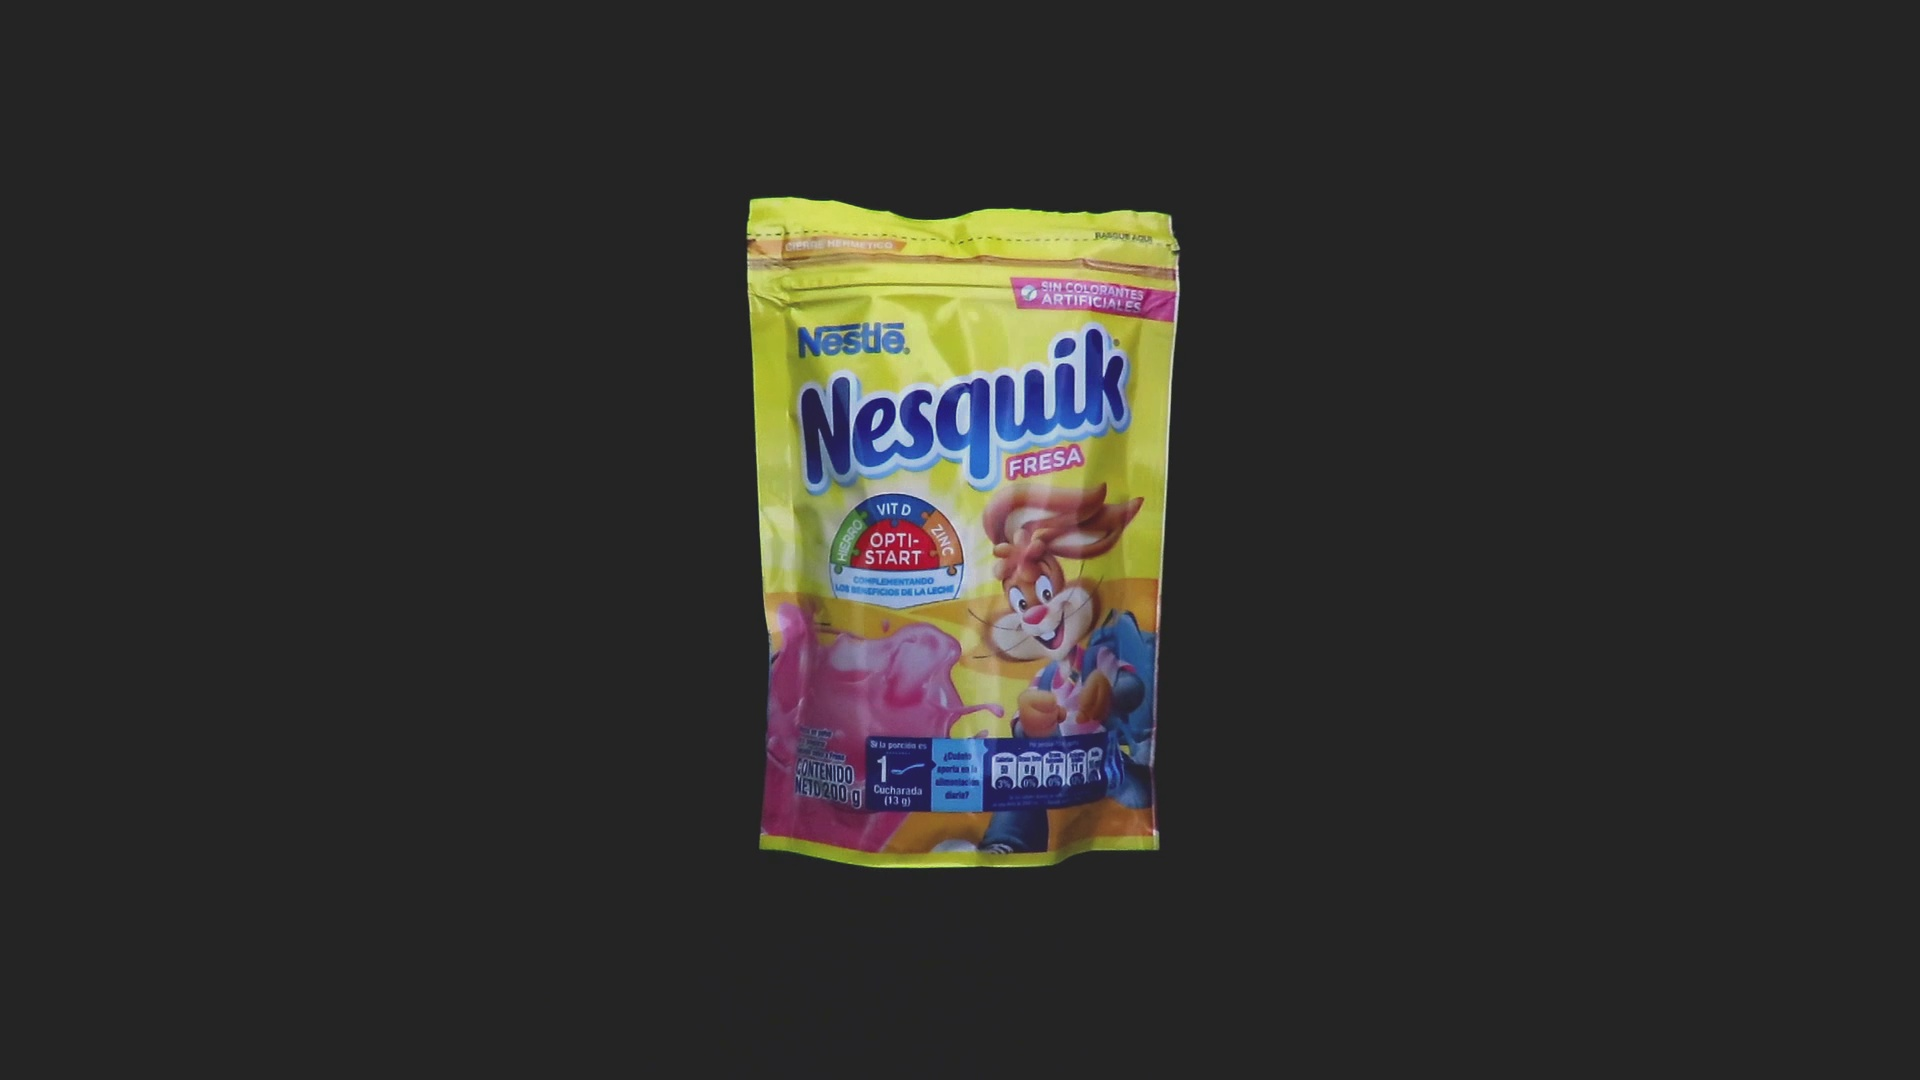COL0170305DYP20000: (741, 193, 1185, 874)
